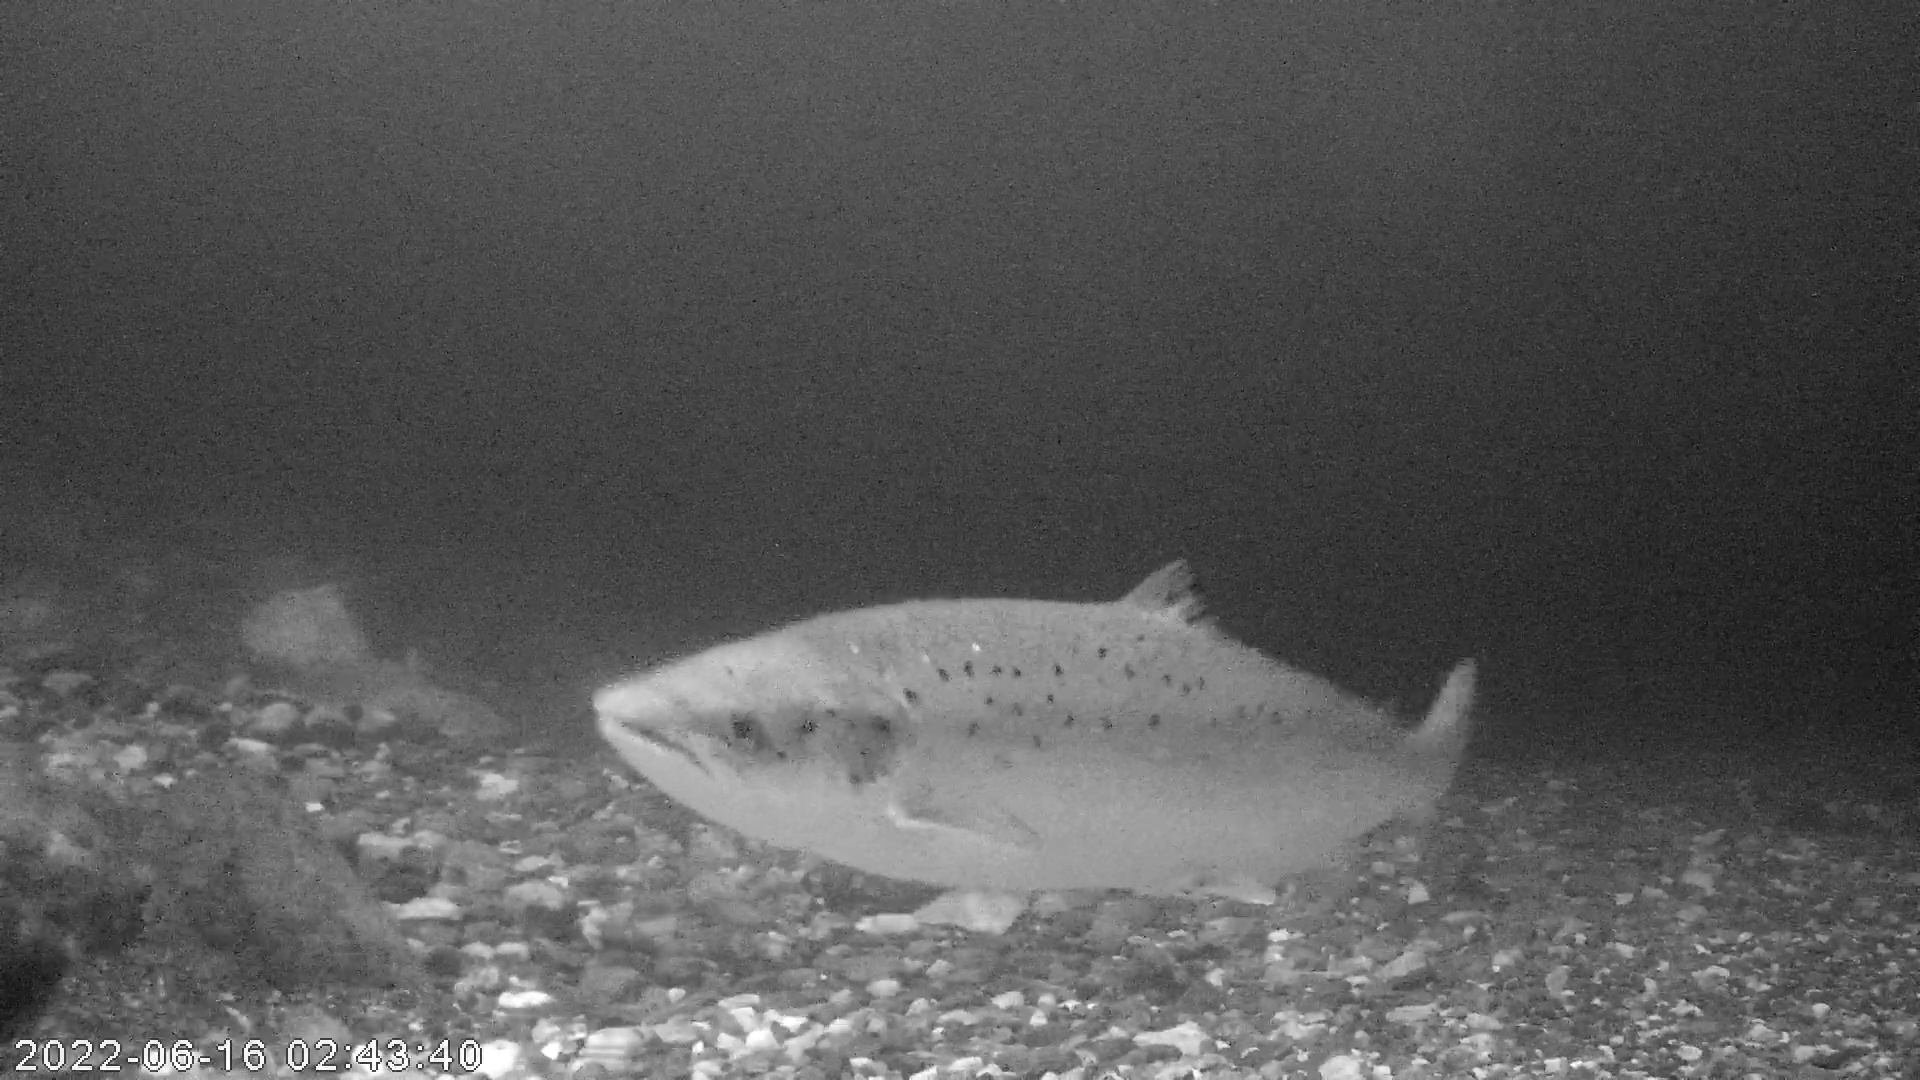salmon: (588, 553, 1480, 906)
